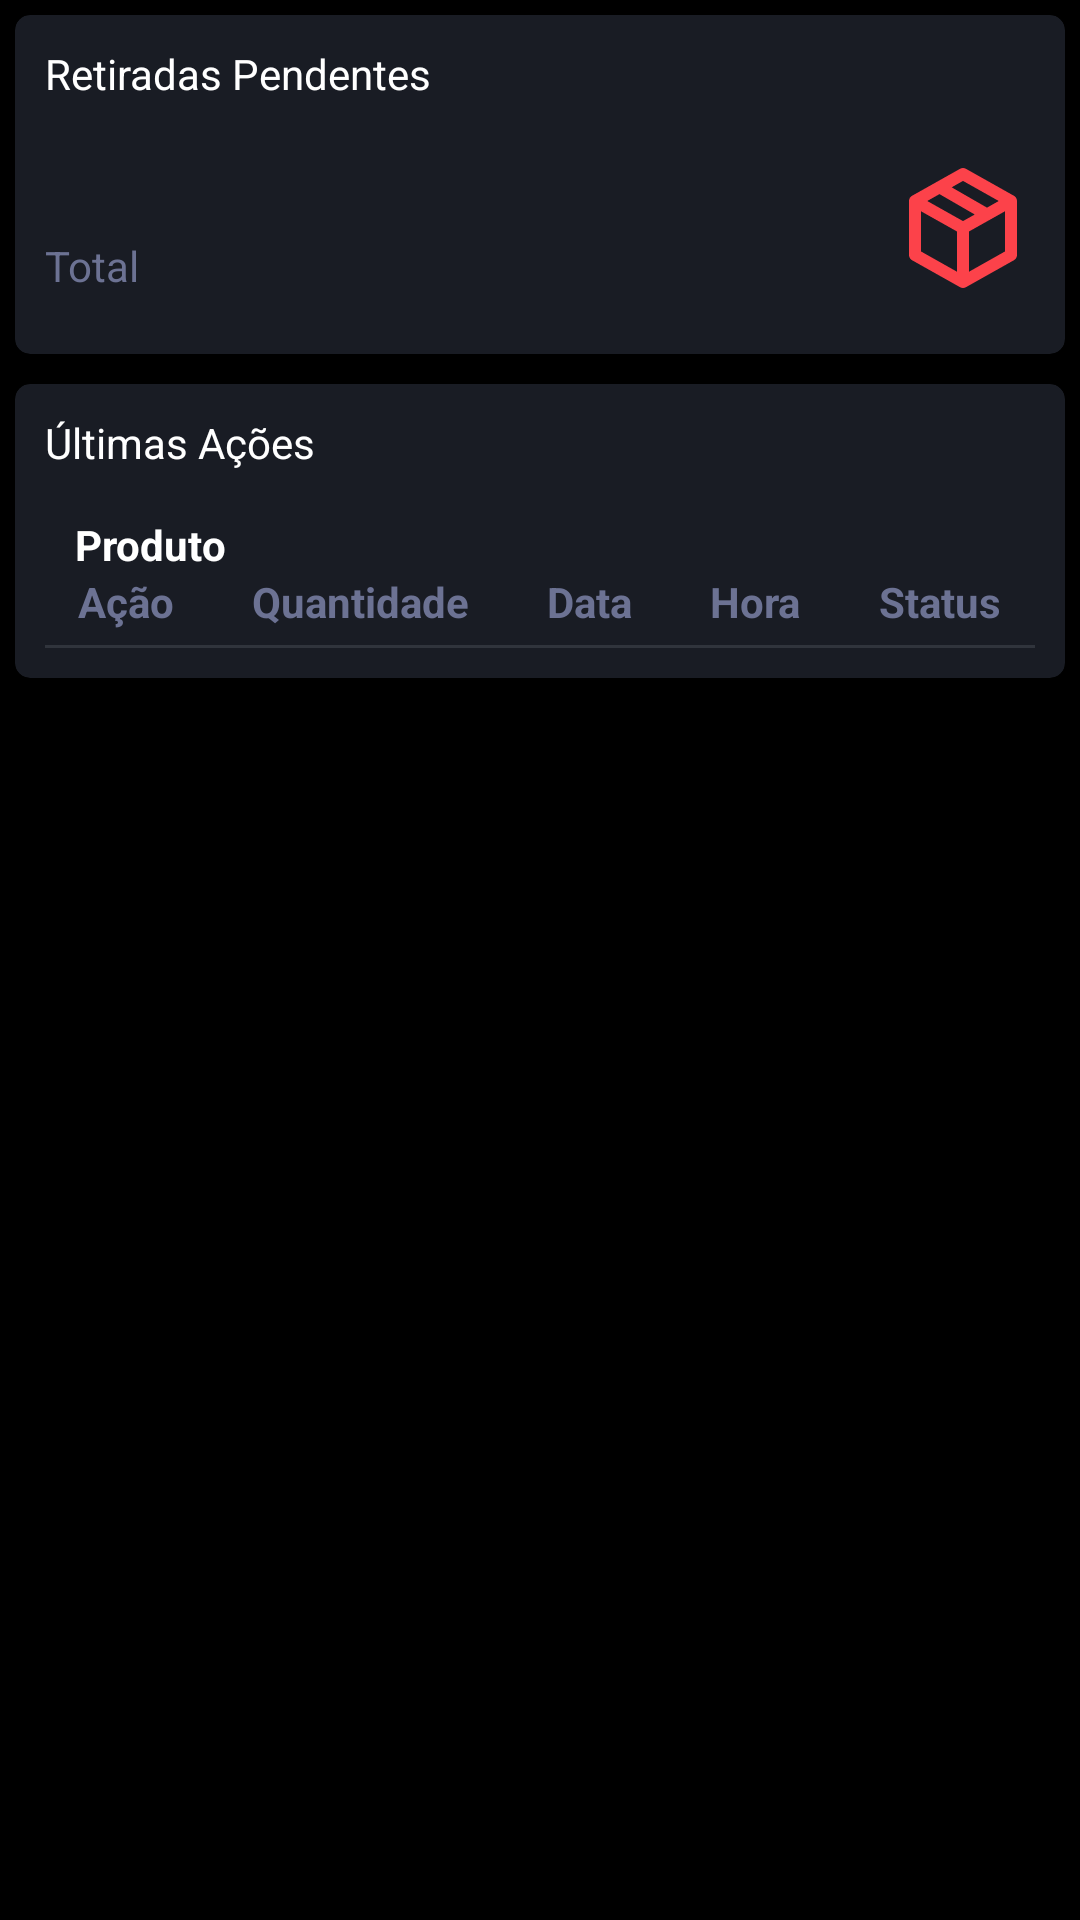

Screen size 1080 × 1920. Icon name, then its center in pixels as point (x, y):
package variant closed: point (963, 228)
